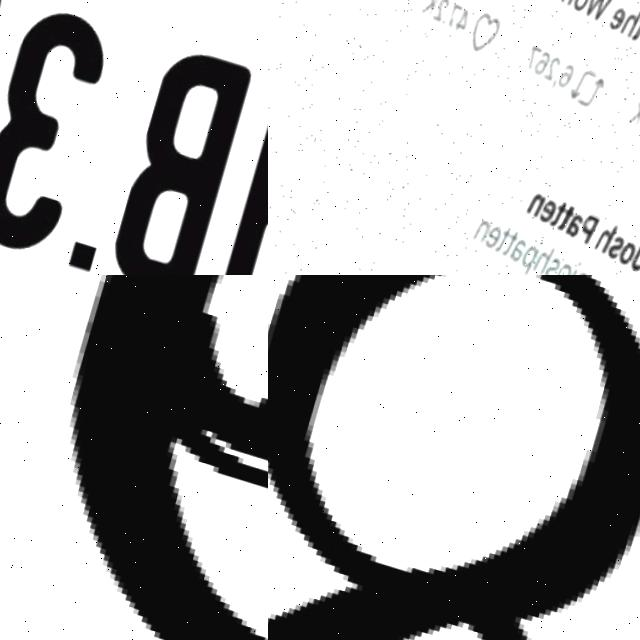2: (542, 46, 565, 78), (431, 0, 453, 20)
3: (0, 0, 117, 257)
4: (453, 0, 475, 31)
6: (555, 53, 579, 86), (533, 40, 555, 73)
7: (522, 35, 546, 68), (442, 0, 466, 27)
9: (0, 275, 268, 640)
B: (111, 31, 261, 275)
H: (218, 69, 268, 275)
Q: (268, 275, 640, 640)
